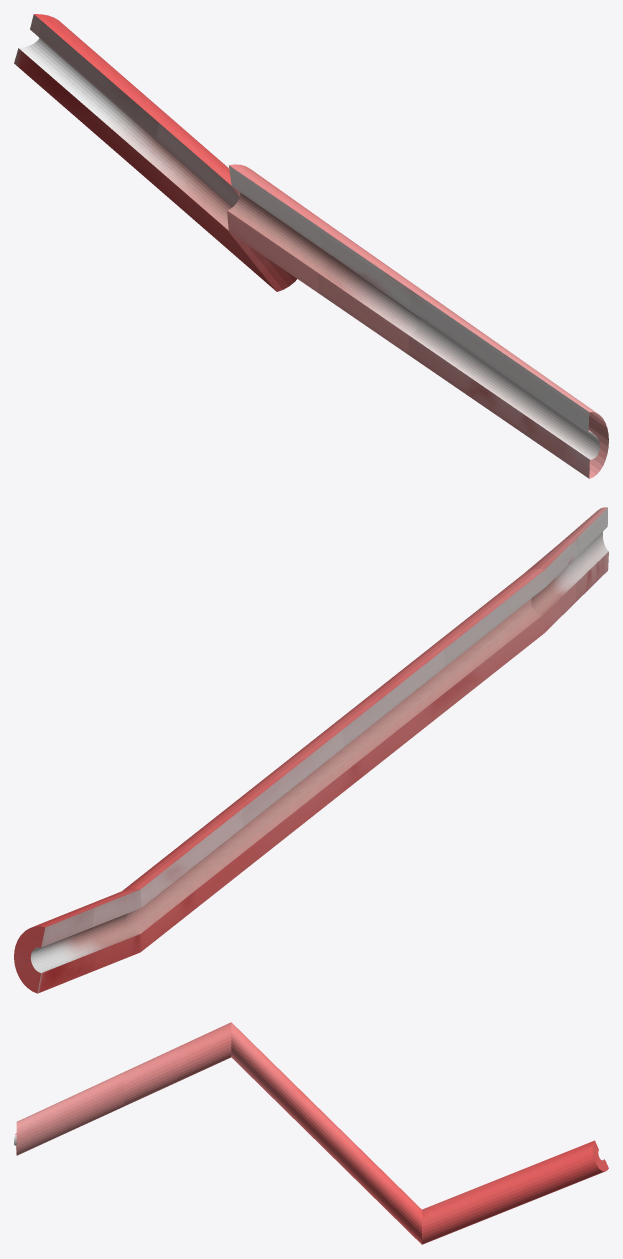
The model's file is Nervio Optico2.FBX.
The picture shows the model from 3 angles, top to bottom: view 1: azimuth 30°, elevation 25°; view 2: azimuth 150°, elevation 25°; view 3: azimuth 270°, elevation 25°; orthographic projection. The views are drawn at different scales.
Visible parts, largest first — view 1: Sclera Left; view 2: Sclera Left; view 3: Sclera Left.
Boxes of the visible parts, x1,y1,x2,y2 form: Sclera Left: (14,14,608,478); Sclera Left: (14,507,608,993); Sclera Left: (14,1022,608,1244).
Size of the model in its own units: 0.3134 by 0.3595 by 1.19.
1 material, 1 textured.
